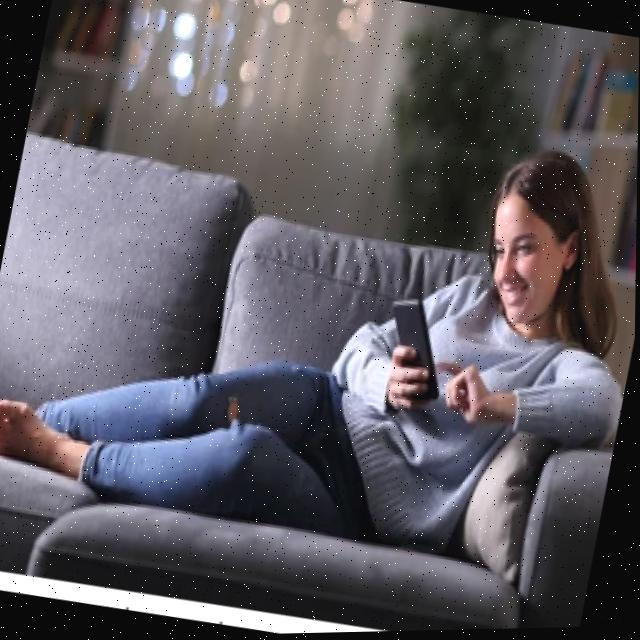smartphone-person: (255, 100, 639, 579)
